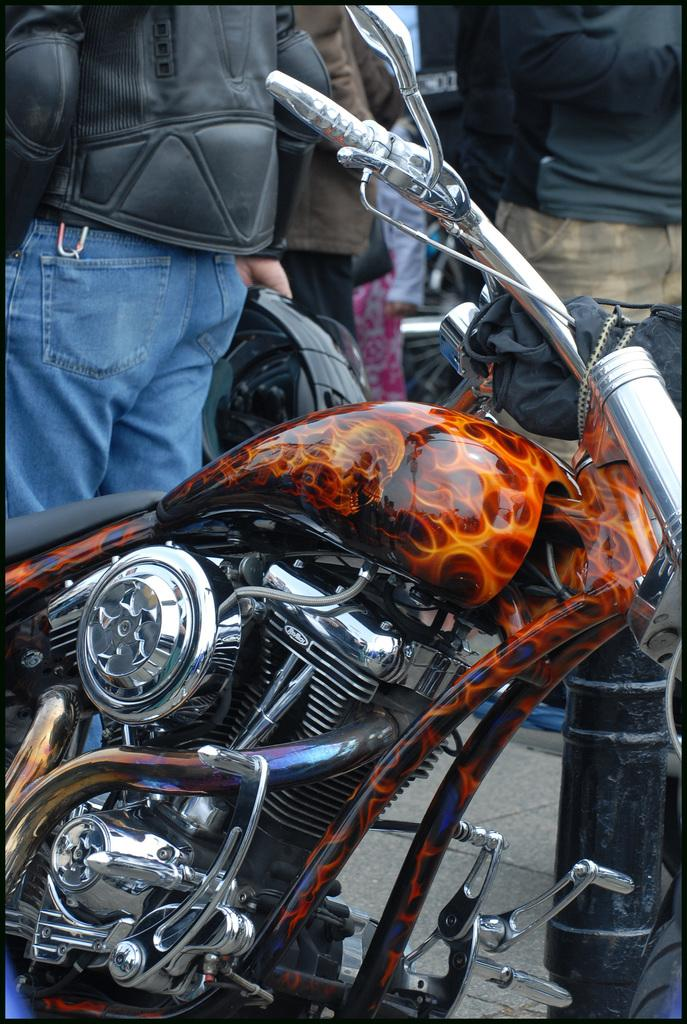helmet: (190, 284, 374, 484)
